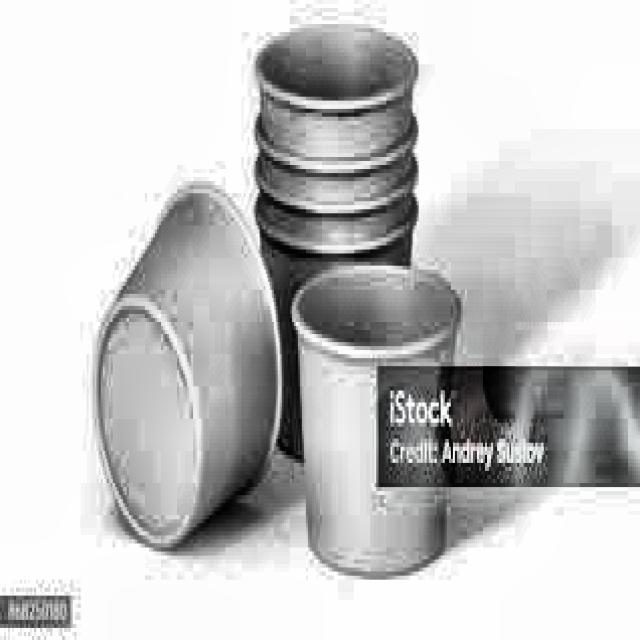Cup: (82, 171, 286, 561), (262, 19, 422, 472), (290, 258, 470, 590)
